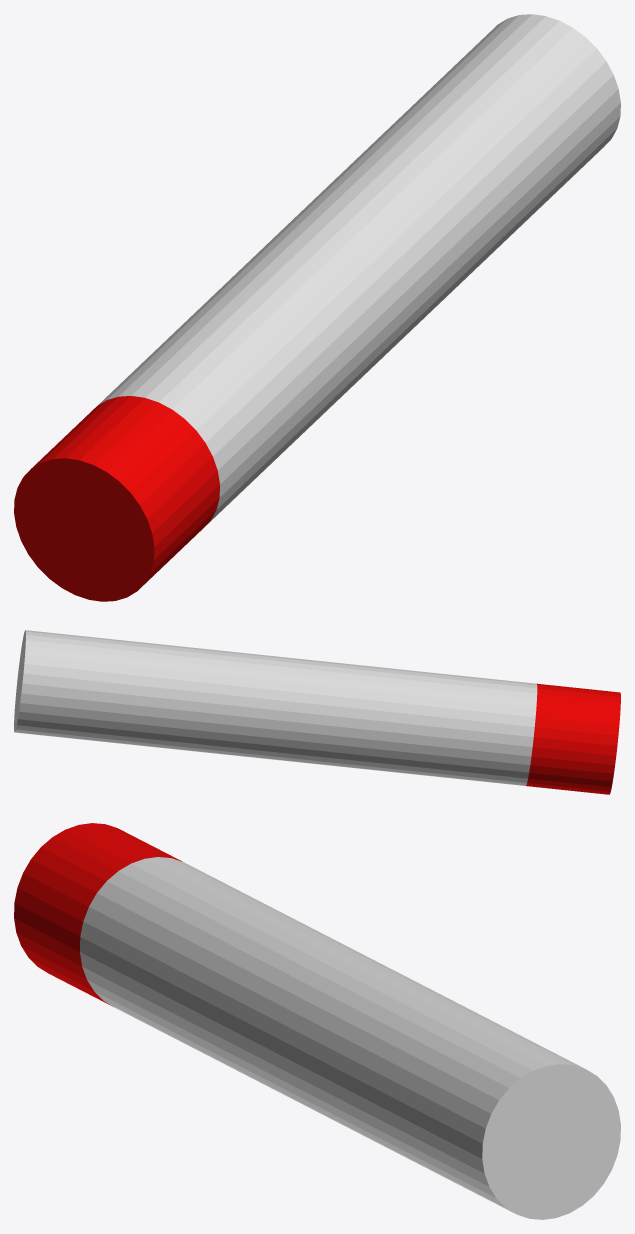
File: Circuit4.fbx
The picture shows the model from 3 angles, top to bottom: view 1: azimuth 30°, elevation 25°; view 2: azimuth 150°, elevation 25°; view 3: azimuth 270°, elevation 25°; orthographic projection. The views are drawn at different scales.
Visible parts, largest first — view 1: Trial4; view 2: Trial4; view 3: Trial4.
Part boxes in pixels (box(x1,y1,x2,y2)): Trial4: box(14, 14, 620, 601); Trial4: box(14, 630, 620, 794); Trial4: box(14, 823, 620, 1219).
Size of the model in its own units: 181 by 55.03 by 124.
